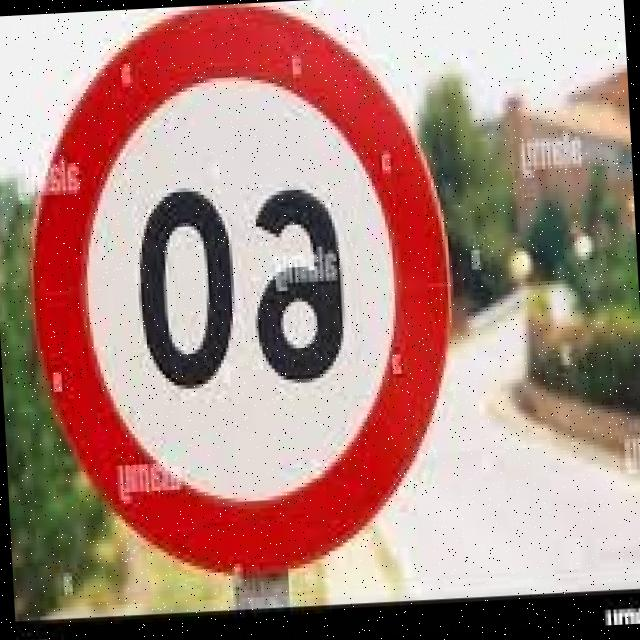speed_limit_60: (13, 0, 482, 589)
